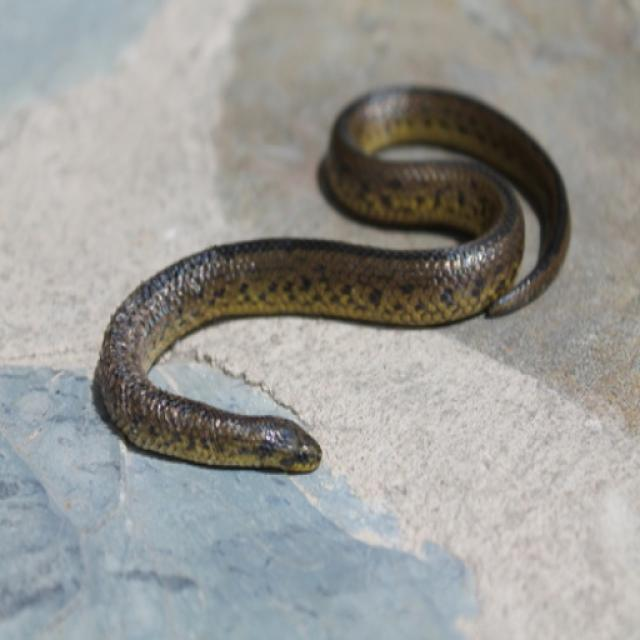snake: (61, 75, 580, 484)
